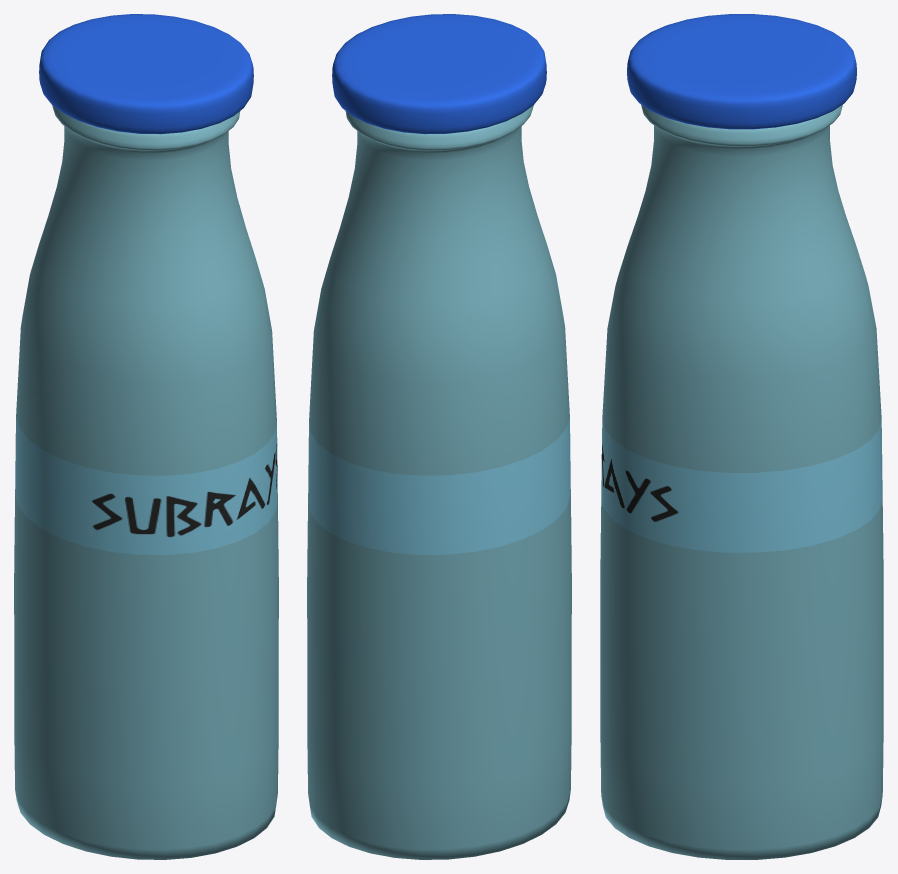
The model's file is Bottle.fbx.
The picture shows the model from 3 angles, left to right: view 1: azimuth 30°, elevation 25°; view 2: azimuth 150°, elevation 25°; view 3: azimuth 270°, elevation 25°; orthographic projection.
Parts seen in each view (by area): view 1: subrays logo copy; view 2: subrays logo copy; view 3: subrays logo copy.
Boxes of the visible parts, x1=… form: subrays logo copy: x1=14, y1=14, x2=278, y2=859; subrays logo copy: x1=307, y1=14, x2=571, y2=859; subrays logo copy: x1=600, y1=14, x2=883, y2=859.
Bounding box in the file's own units: 19.3 × 56.6 × 17.69.
Materials: 3 (1 with a texture image).
